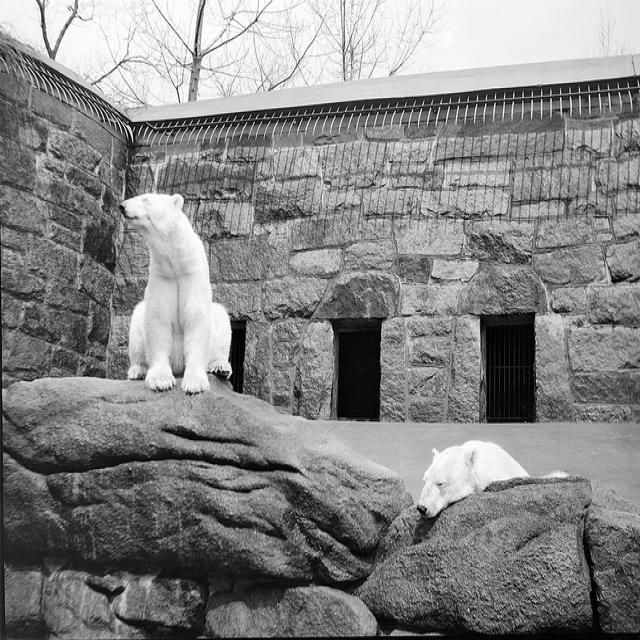Bear: (112, 178, 238, 404), (416, 432, 569, 518)
